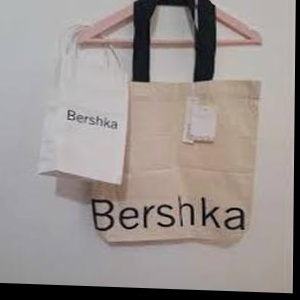bershka: (197, 74, 295, 293), (84, 43, 155, 174)
